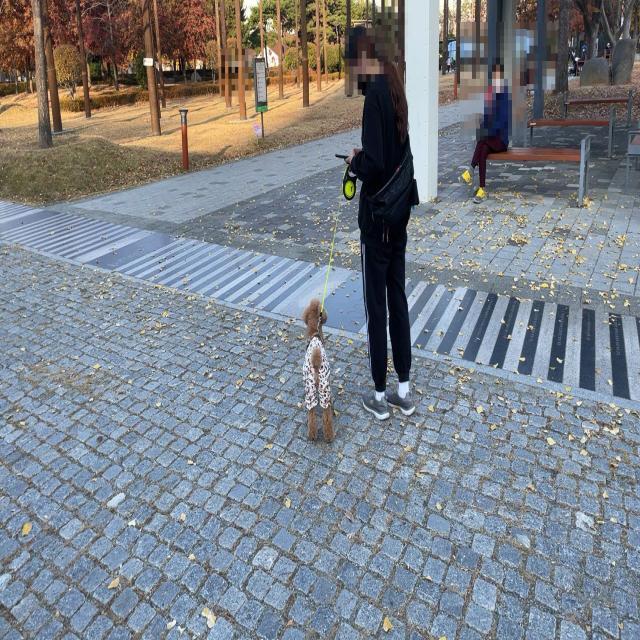Leashed_Dog: (300, 152, 373, 445)
